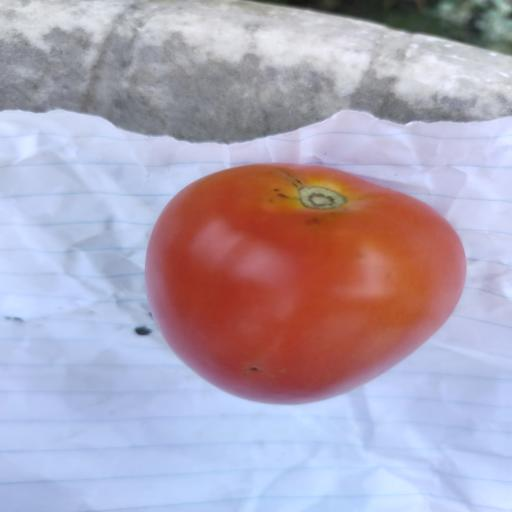ripe: (146, 163, 466, 404)
